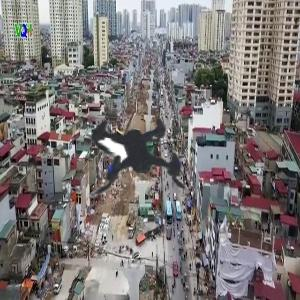drone: (33, 39, 249, 255)
